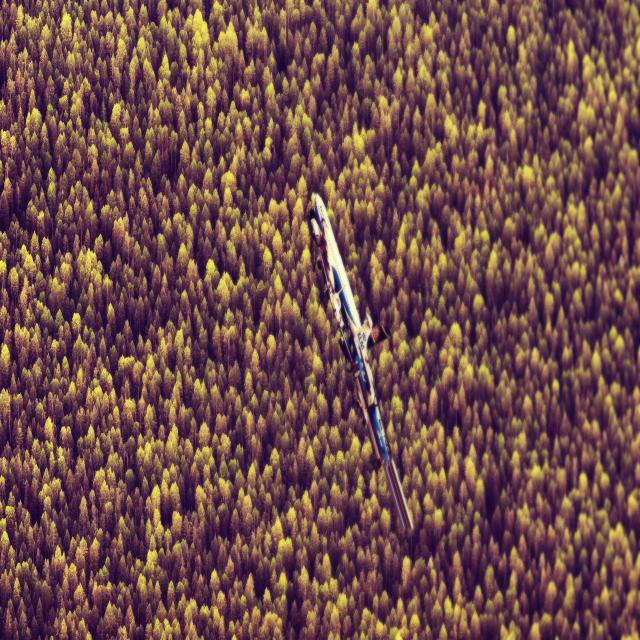airplane: (307, 192, 414, 532)
